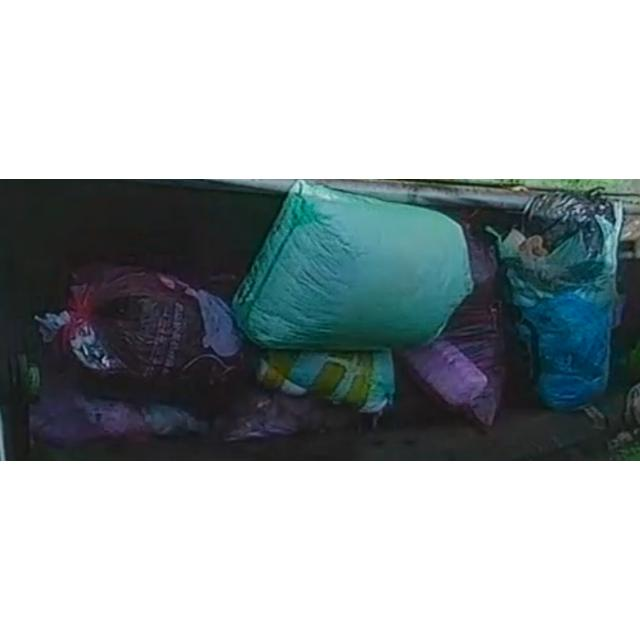general_trashbag: (488, 192, 621, 410)
other_trashbag: (232, 180, 474, 350), (38, 266, 248, 413), (405, 219, 505, 426)
